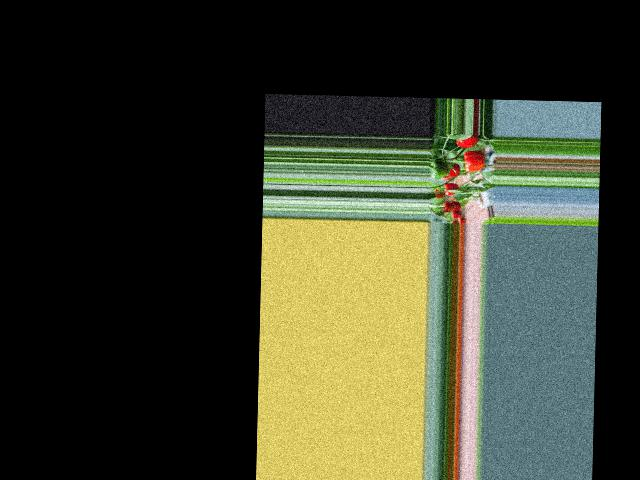bell_pepper: (440, 182, 462, 197)
